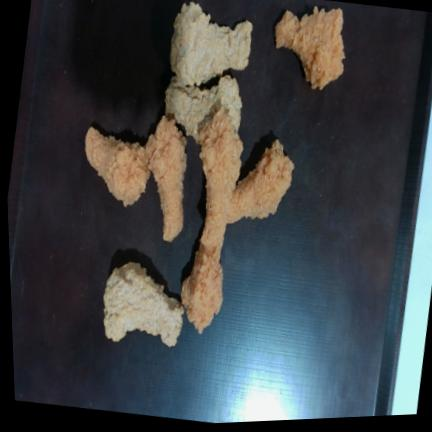chicken: (170, 2, 252, 85), (104, 262, 184, 346), (200, 108, 243, 247), (276, 7, 345, 89), (228, 139, 294, 223), (146, 116, 187, 242), (165, 75, 242, 142), (85, 127, 150, 206), (181, 243, 223, 333)
